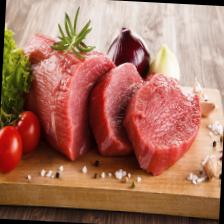meat: (14, 31, 117, 162), (120, 70, 203, 177), (86, 60, 149, 157)
